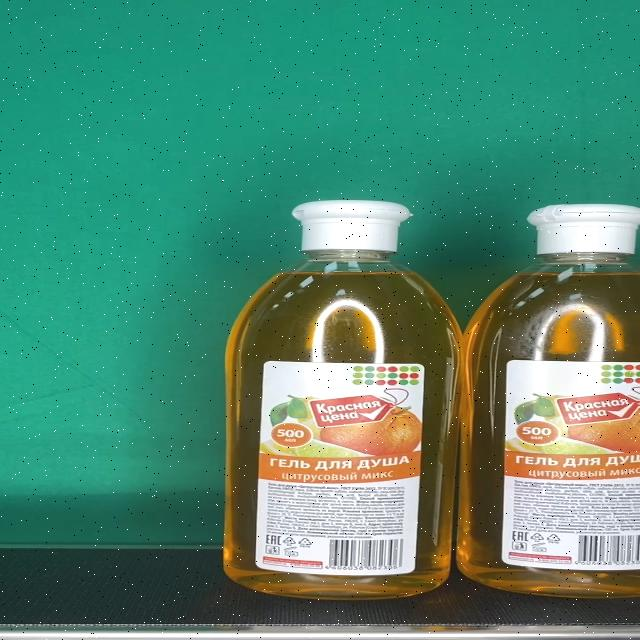Bottle: (218, 199, 463, 602)
Cap: (292, 201, 412, 252)
